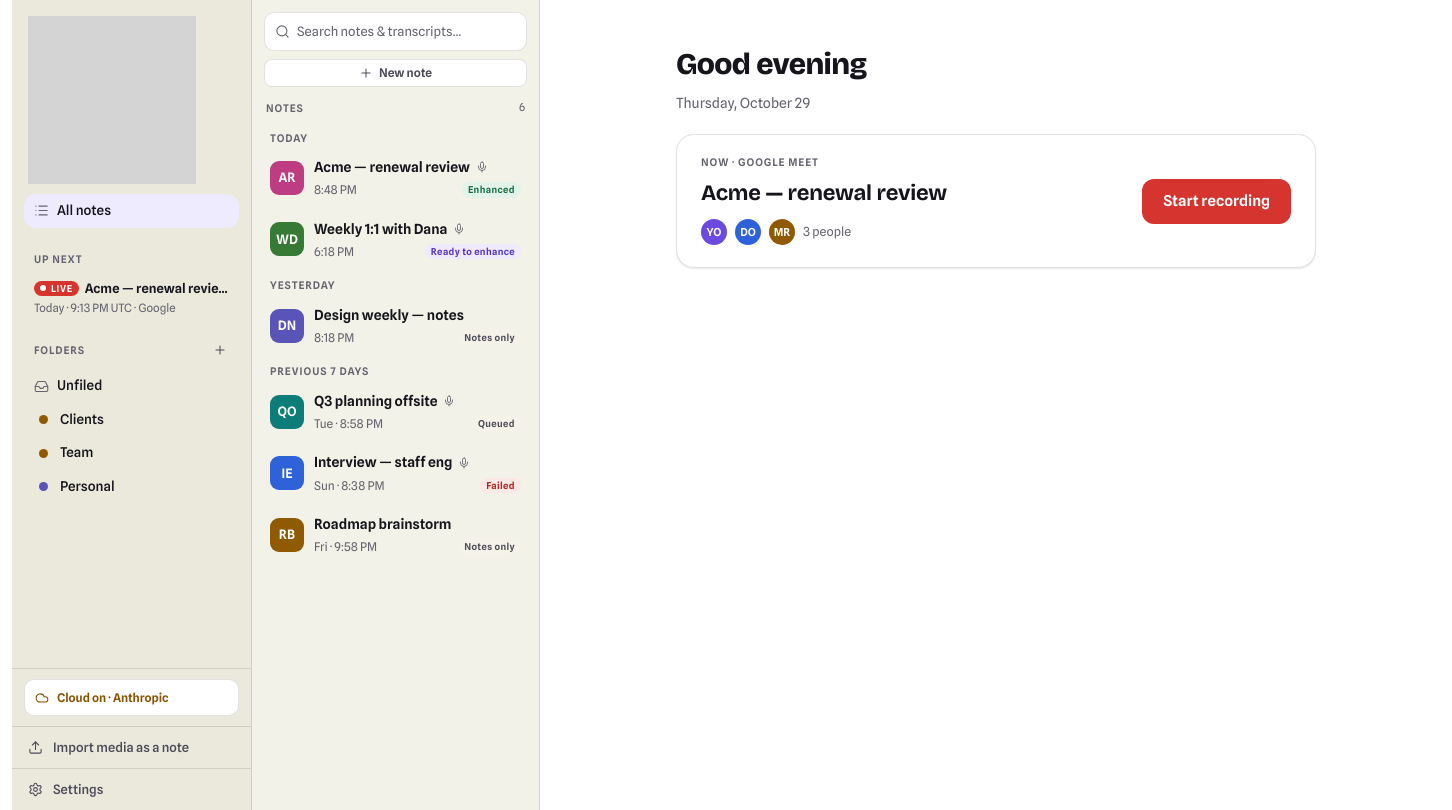
Scenario: App: a finished import call › updates the queue of the import note that's still open
What coordinates should you click on to do the following:
click the button "Import media as a note"
I would click on:
 (132, 747)
Its box is [12,726,251,768].
Wait 100 ms
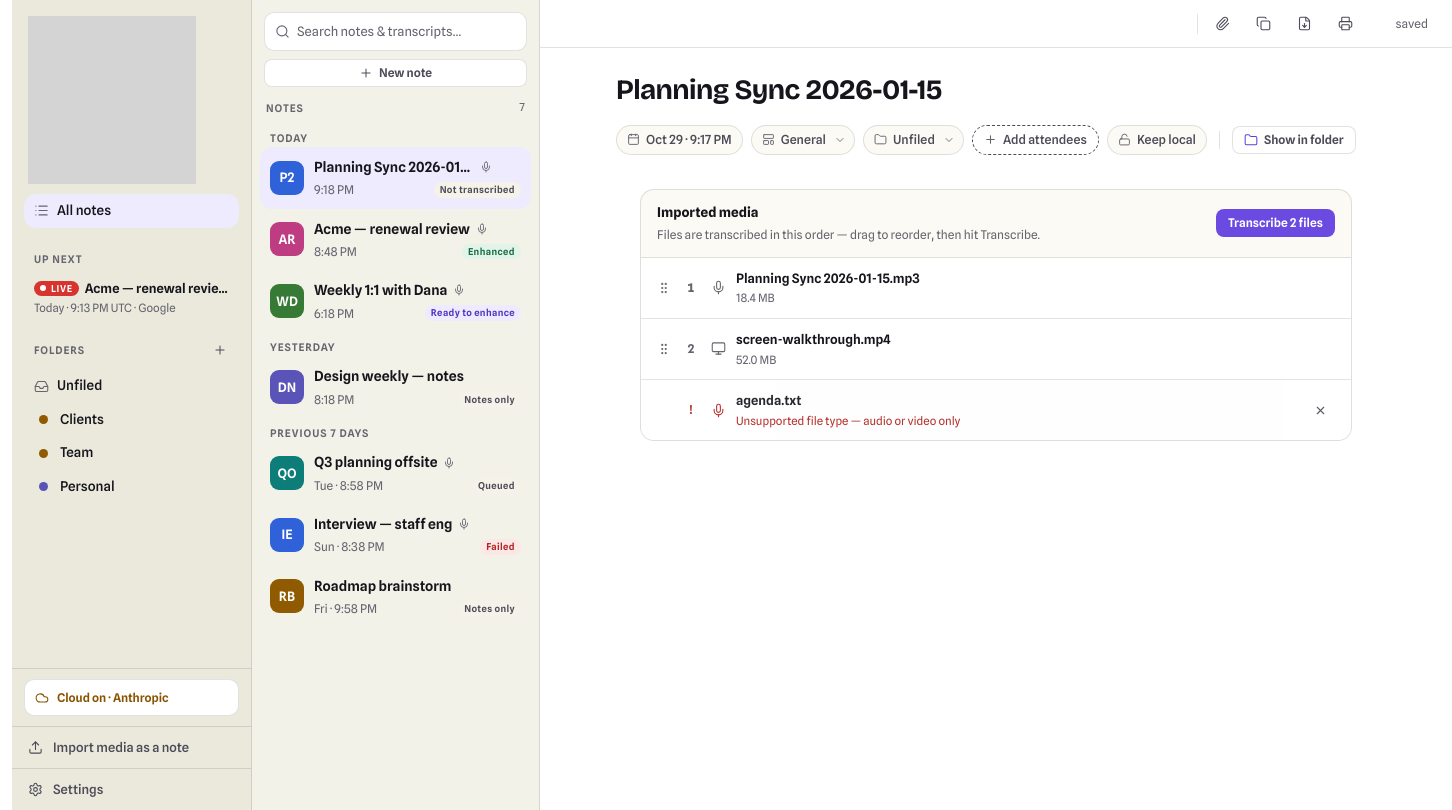
What coordinates should you click on to do the following:
click the button "Transcribe 2 files"
I would click on:
 (1275, 223)
Its box is [1216,209,1335,237].
Wait 100 ms
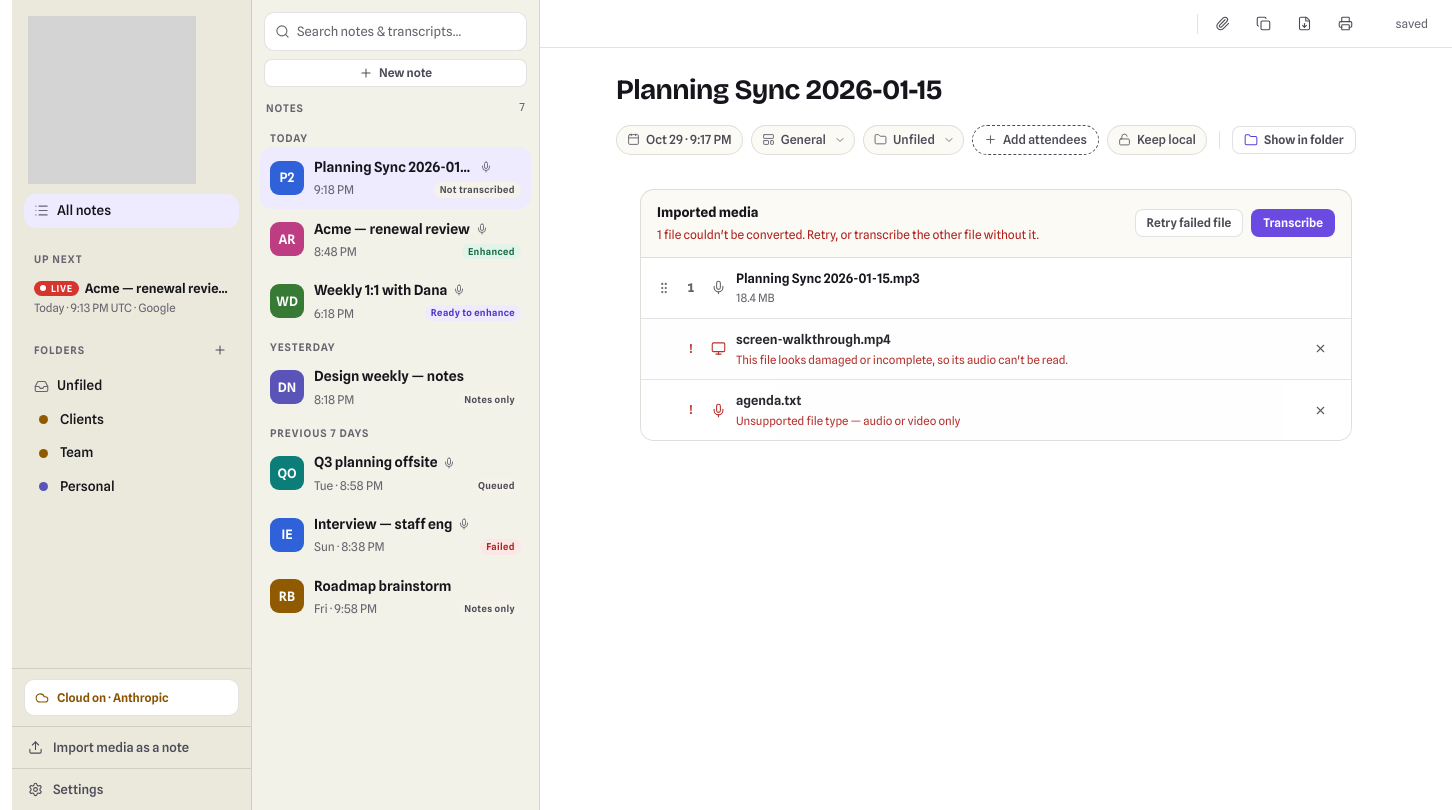
Check: the text "This file looks damaged or incomplete, so its audio can't be read." is shown, box [736,353,1068,367]
